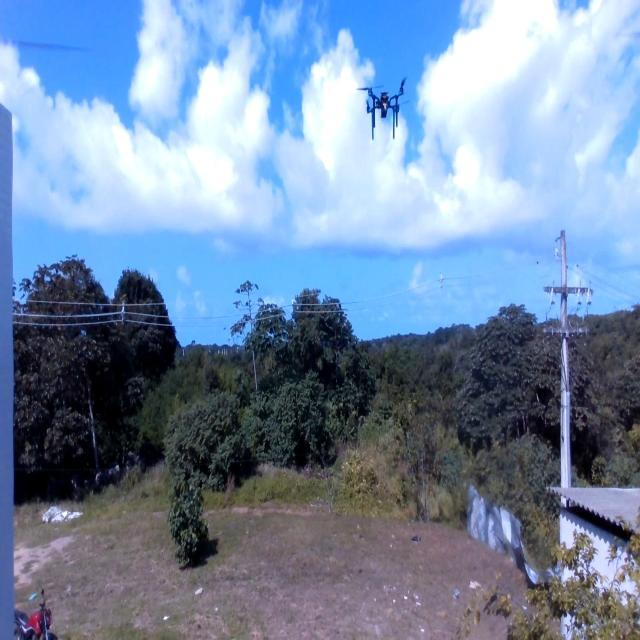-uav-: (360, 76, 412, 138)
